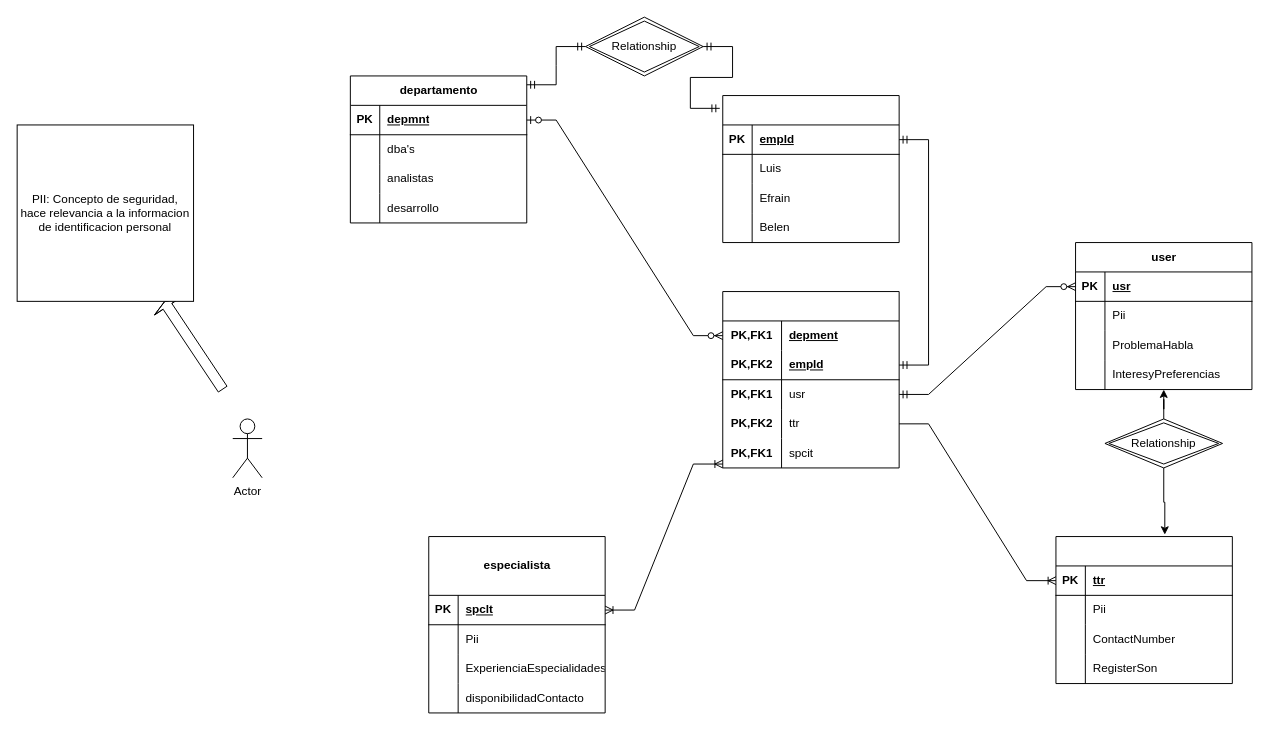
This 1269x730 diagram has some shape labels left out. Each missing label, with the box of its shape:
empleado: (722, 95, 899, 243)
keys: (722, 291, 899, 468)
tutor: (1055, 536, 1232, 684)
